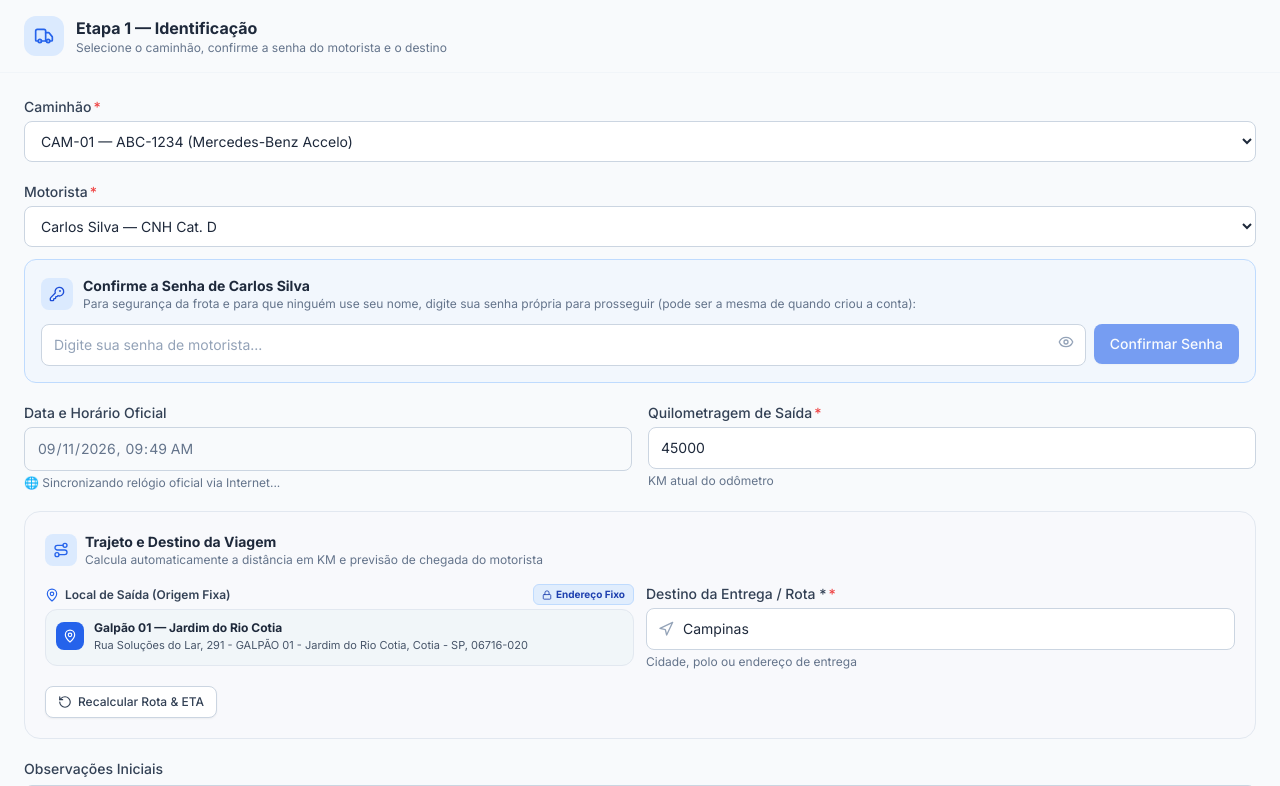
Step1_Identification - Driver Password Verification › shows error when wrong driver password is typed in Step 1
Type "senhaerrada" into the password field with placeholder "Digite sua senha de motorista...".
click(563, 345); type("senhaerrada")  # box [41,324,1086,366]
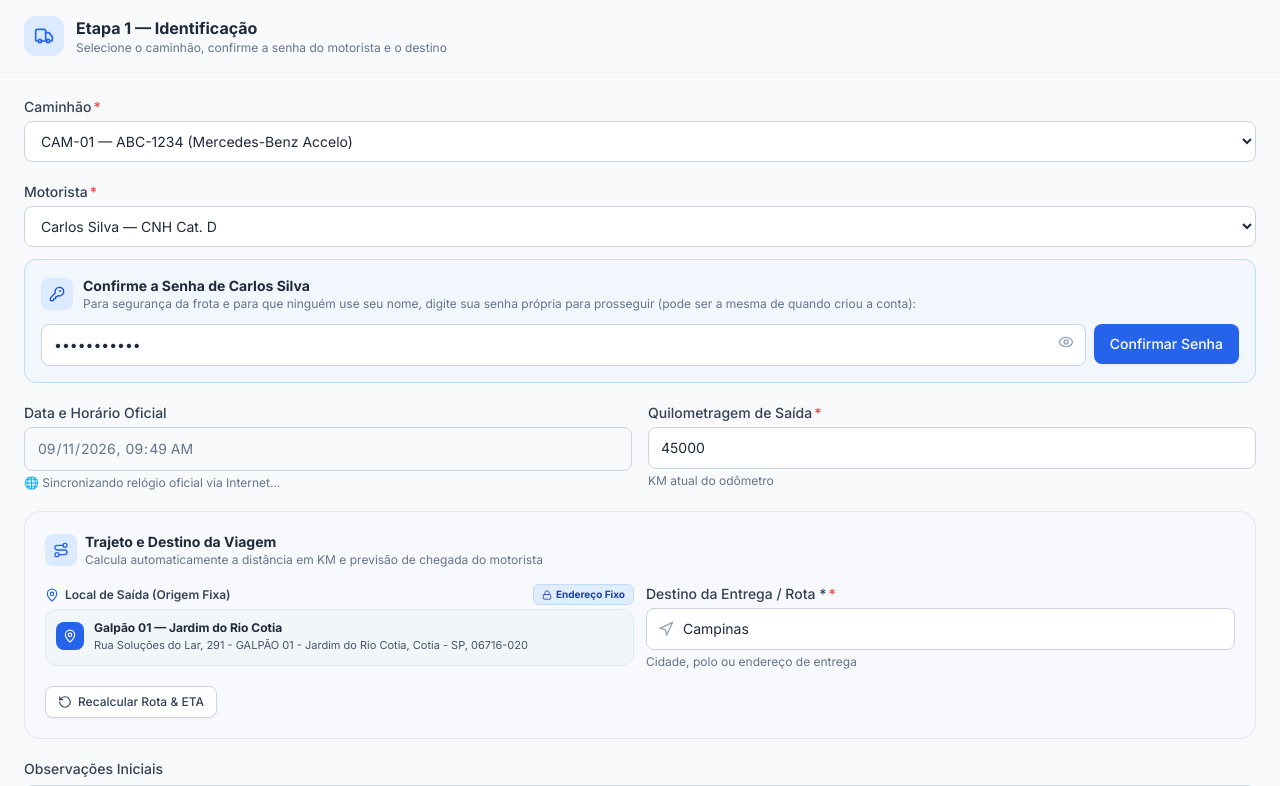
Click the button "Confirmar Senha".
click(1166, 344)  # box [1094,324,1239,364]
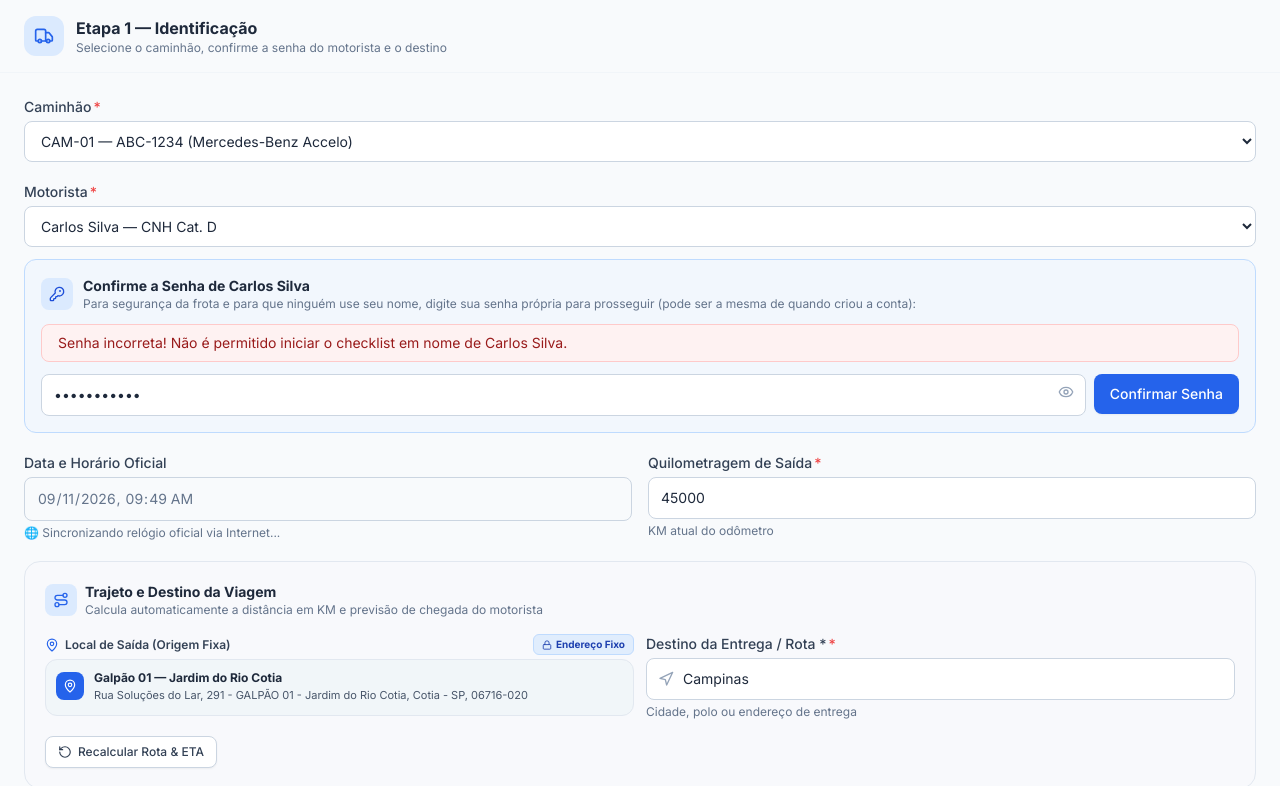
Expected: the text "Senha incorreta! Não é permitido iniciar o checklist" is shown, [58,334,567,351]
